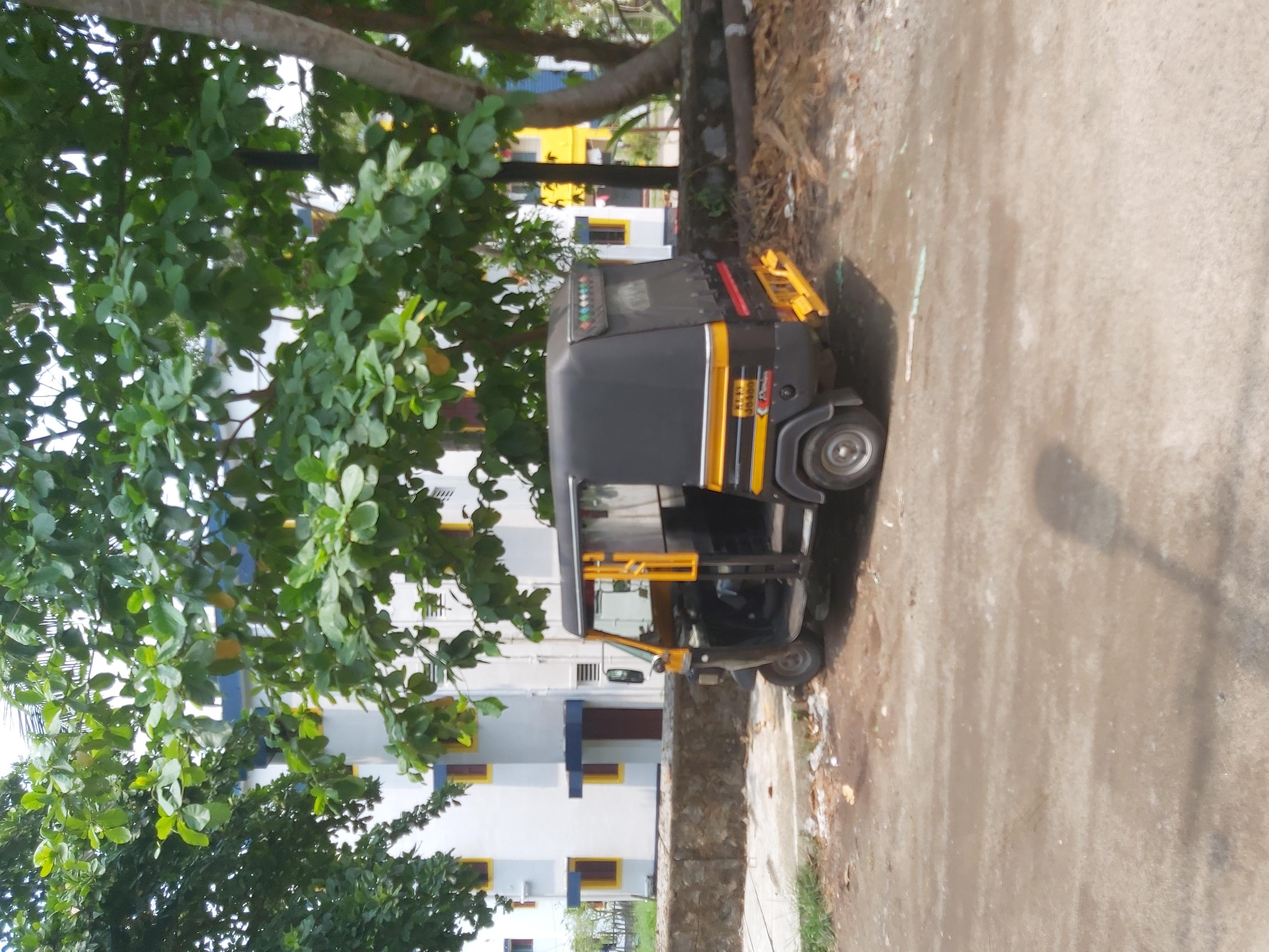Auto: (329, 403, 949, 669)
